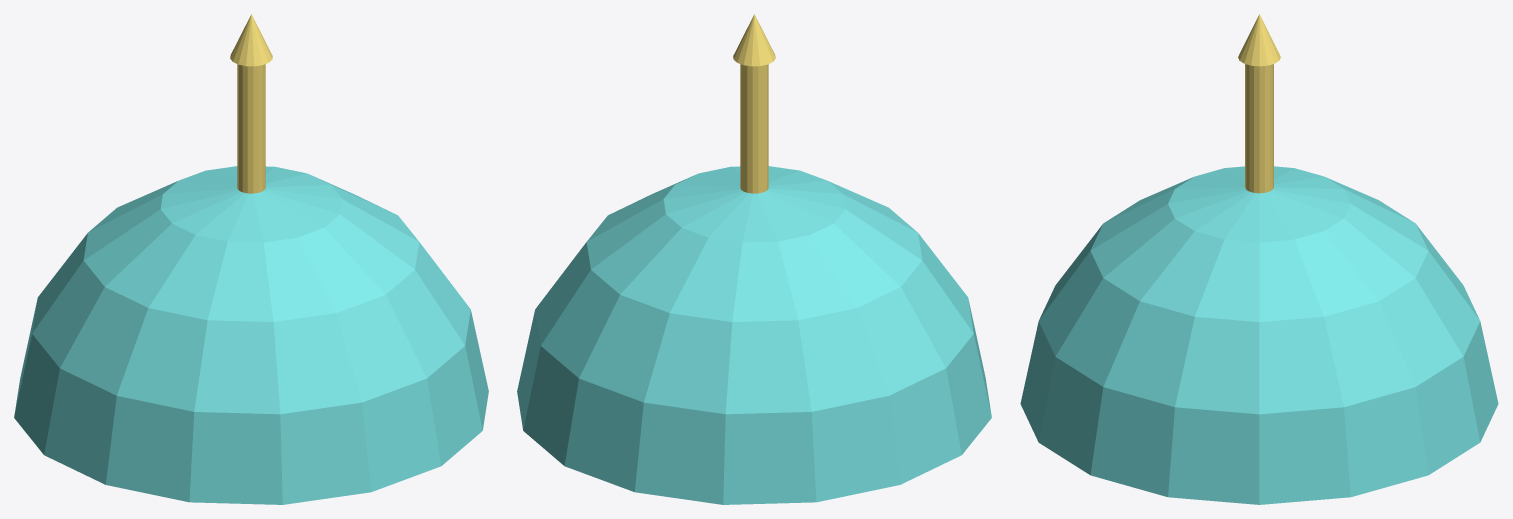
Rendered from dome.glb.
3 renders of one model, left to right at view 1: azimuth 30°, elevation 25°; view 2: azimuth 150°, elevation 25°; view 3: azimuth 270°, elevation 25°, orthographic.
Visible parts, largest first — view 1: Dome; view 2: Dome; view 3: Dome.
Boxes of the visible parts, x1,y1,x2,y2 form: Dome: [14, 14, 488, 504]; Dome: [517, 14, 991, 504]; Dome: [1020, 14, 1498, 504].
Bounding box in the file's own units: 10 × 9 × 10.
